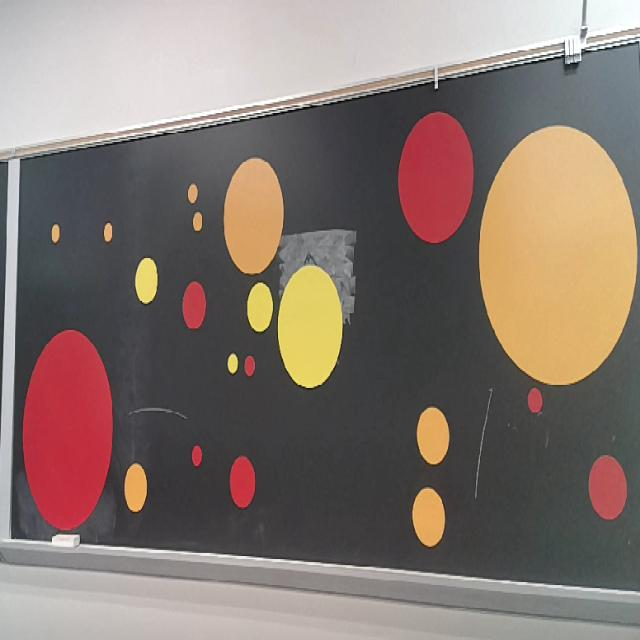Orange: (478, 125, 638, 386), (223, 156, 284, 275), (412, 488, 446, 547), (417, 406, 449, 464), (124, 462, 148, 512), (51, 222, 60, 244), (193, 211, 202, 232), (188, 184, 198, 202), (104, 222, 112, 241)
Red: (20, 328, 115, 530), (398, 111, 474, 245), (588, 455, 627, 520), (230, 455, 255, 508), (182, 281, 206, 329), (527, 387, 542, 414), (244, 354, 256, 378), (192, 446, 201, 466)
Yellow: (278, 265, 343, 389), (248, 282, 274, 332), (135, 257, 158, 304), (227, 353, 238, 374)
